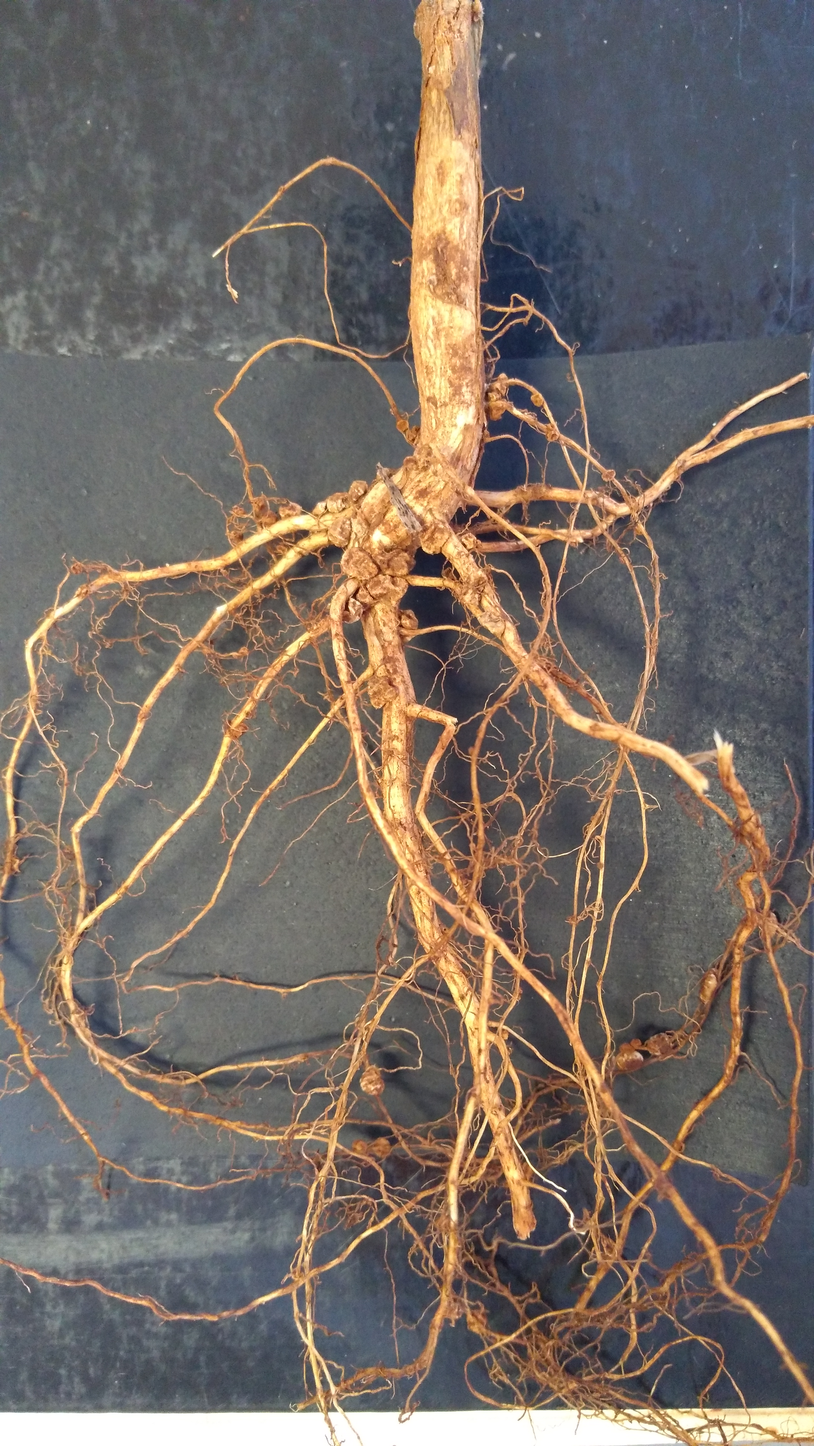nodule: (370, 545, 420, 578), (415, 517, 452, 558), (340, 545, 380, 581), (365, 573, 411, 604), (363, 674, 400, 711), (357, 1063, 389, 1099), (310, 491, 353, 517), (643, 1031, 677, 1061), (756, 906, 783, 942), (326, 514, 351, 550), (696, 973, 722, 1005), (339, 596, 365, 625), (613, 1050, 647, 1072), (487, 391, 510, 423), (347, 478, 373, 504), (395, 607, 422, 632), (355, 583, 377, 611), (465, 1309, 488, 1335), (416, 443, 435, 472), (459, 530, 481, 553), (370, 1136, 393, 1158), (277, 501, 302, 520), (399, 453, 419, 475), (495, 371, 510, 397), (405, 425, 423, 446), (350, 1138, 371, 1156), (527, 392, 546, 410), (260, 509, 277, 525), (601, 467, 617, 482), (618, 1041, 636, 1054), (395, 418, 409, 433), (629, 1036, 643, 1050), (547, 428, 560, 443), (635, 523, 645, 537), (238, 645, 249, 657), (595, 861, 606, 870)
